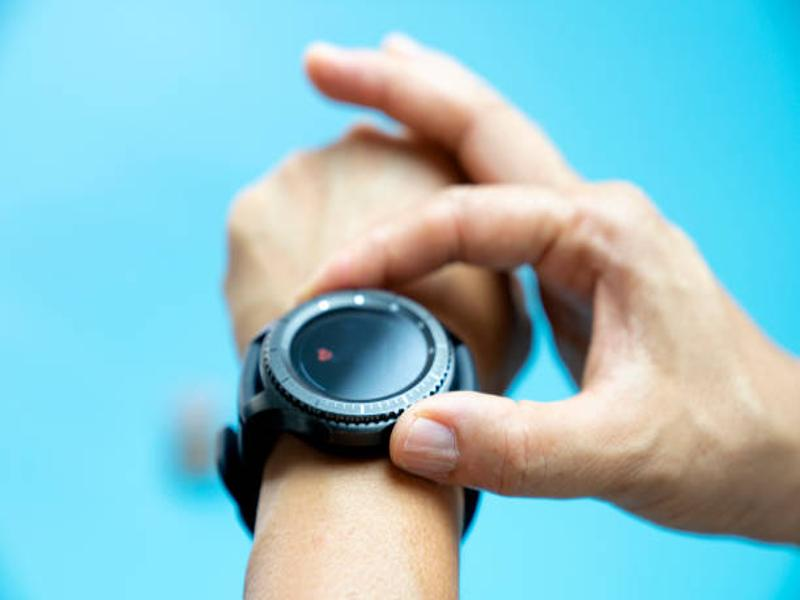watch: (216, 287, 481, 549)
